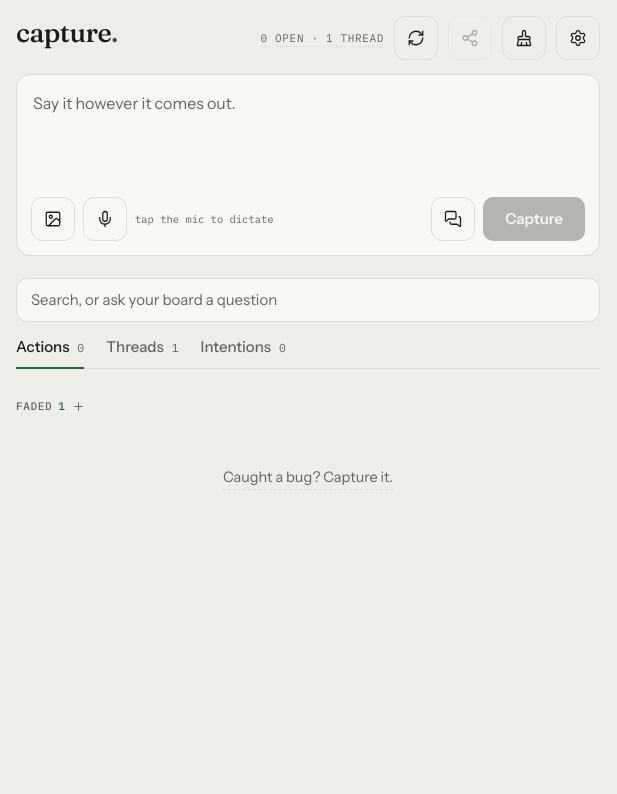
Test: uses Unsorted disclosure styling for Faded without changing its recovery behavior
Expected: the text "Recover this faded action" is not shown
Click the button "Faded 1": {"x": 50, "y": 406} [16,384,85,428]
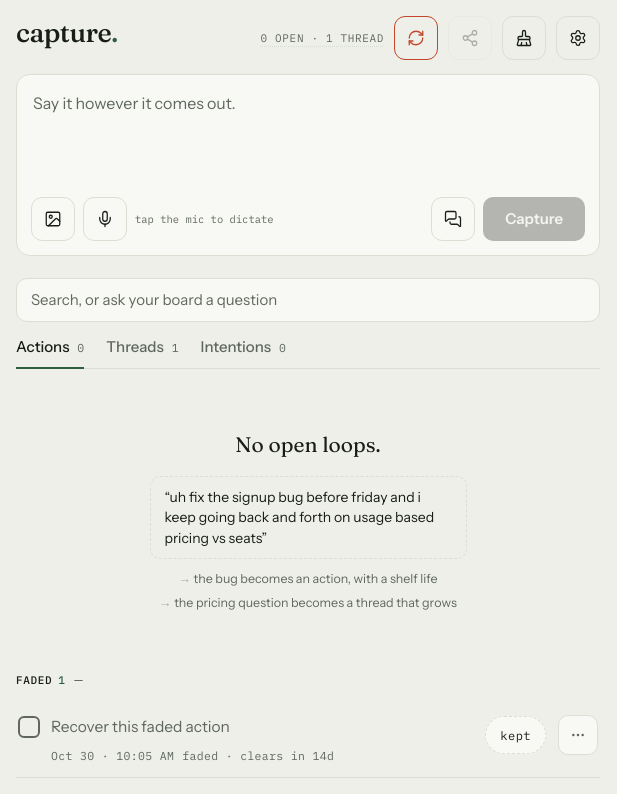
Now the button "Faded 1" is expanded, box [16,658,85,702]
Now the text "Recover this faded action" is shown, box [51,717,230,736]
